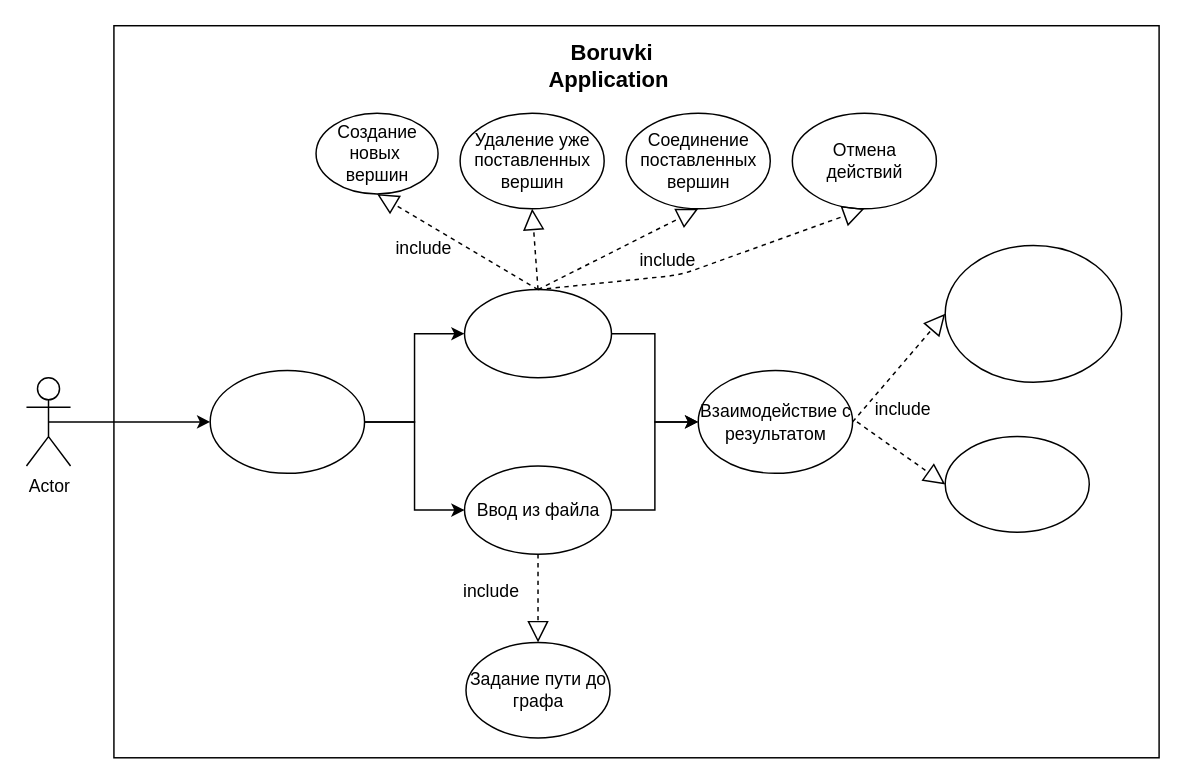
Some shapes in this 1185 by 784 pixel diagram are drawn without their labels. The shapes that lost their labels are listed below. From the top down, each one's centre as x and y in pixels, then its label:
At (537,333): "Ввод вручную".
At (1033,313): "Перемещение между шагами алгоритма (вперед/назад)".
At (287,421): "Выбор способа ввода".
At (1016,483): "Сохранение результата в файл".
